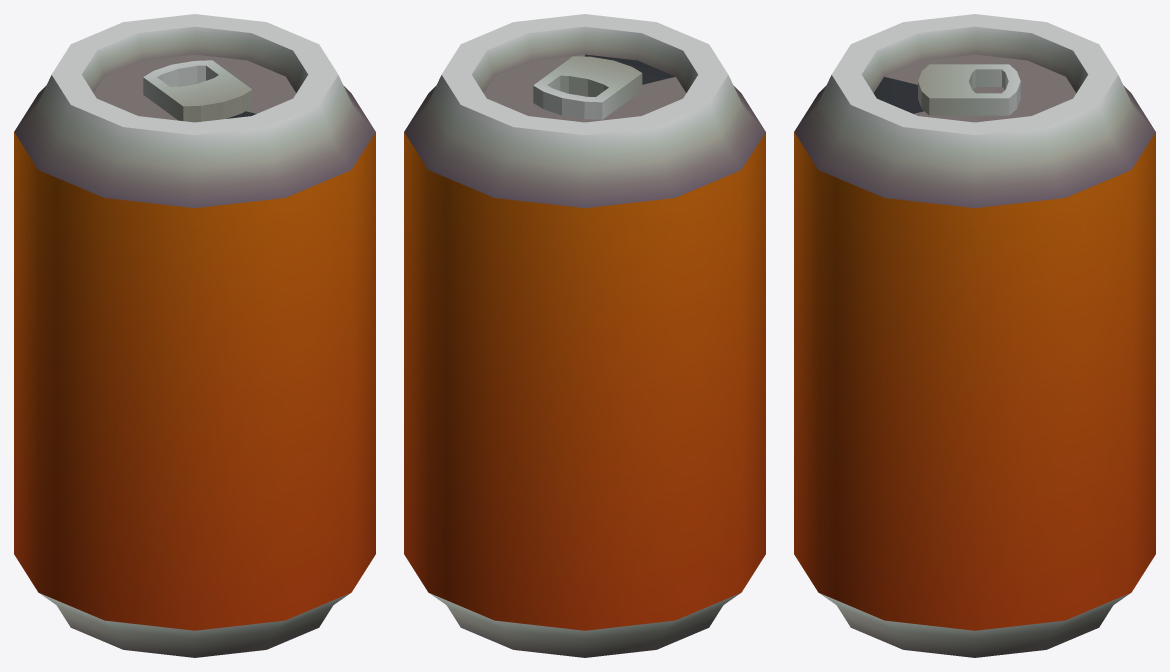
The model's file is Can_01.glb.
3 views of the same model, side by side, from view 1: azimuth 30°, elevation 25°; view 2: azimuth 150°, elevation 25°; view 3: azimuth 270°, elevation 25° (orthographic).
Visible parts, largest first — view 1: Can_01; view 2: Can_01; view 3: Can_01.
Part boxes in pixels (left/top/right/bottom): Can_01: left=14, top=14, right=375, bottom=657; Can_01: left=404, top=14, right=765, bottom=657; Can_01: left=794, top=14, right=1155, bottom=657.
Size of the model in its own units: 0.2 by 0.319 by 0.2.
Materials: 1 (1 with a texture image).
